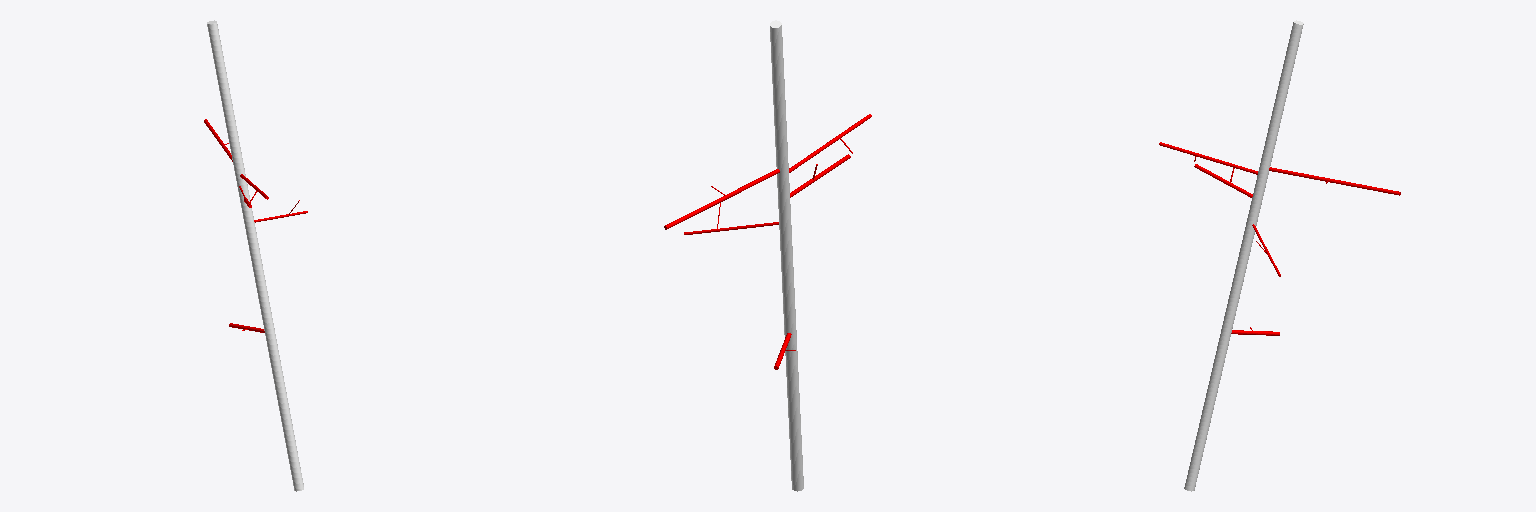
robot.urdf — tree_8.urdf:
<?xml version='1.0' encoding='UTF-8'?>
<robot name="tree_8.urdf">
  <link name="branch_0">
    <inertial>
      <origin xyz="0.0 0.0 0.0" rpy="0.0 -0.0 0.0"/>
      <mass value="0.1"/>
      <inertia ixx="0.001" ixy="0.0" ixz="0.0" iyy="0.001" iyz="0.0" izz="0.001"/>
    </inertial>
    <visual name="branch_0_visual">
      <geometry>
        <cylinder radius="0.12056273771362779" length="11.624842342593364"/>
      </geometry>
      <material name="branch_material"/>
      <origin xyz="-0.46709309058473814 1.2461915952310492 5.658009404838541" rpy="0.0 0.23101640541137178 1.9294060533268833"/>
    </visual>
    <collision name="branch_0_collision">
      <geometry>
        <cylinder radius="0.12056273771362779" length="11.624842342593364"/>
      </geometry>
      <origin xyz="-0.46709309058473814 1.2461915952310492 5.658009404838541" rpy="0.0 0.23101640541137178 1.9294060533268833"/>
    </collision>
  </link>
  <link name="branch_1">
    <inertial>
      <origin xyz="0.0 0.0 0.0" rpy="0.0 -0.0 0.0"/>
      <mass value="0.1"/>
      <inertia ixx="0.001" ixy="0.0" ixz="0.0" iyy="0.001" iyz="0.0" izz="0.001"/>
    </inertial>
    <visual name="branch_1_visual">
      <geometry>
        <cylinder radius="0.039919161255834286" length="2.4931160571359996"/>
      </geometry>
      <material name="semantic_material"/>
      <origin xyz="0.0 0.0 0.0" rpy="0.0 -0.0 0.0"/>
    </visual>
    <collision name="branch_1_collision">
      <geometry>
        <cylinder radius="0.039919161255834286" length="2.4931160571359996"/>
      </geometry>
      <origin xyz="0.0 0.0 0.0" rpy="0.0 -0.0 0.0"/>
    </collision>
  </link>
  <link name="branch_2">
    <inertial>
      <origin xyz="0.0 0.0 0.0" rpy="0.0 -0.0 0.0"/>
      <mass value="0.1"/>
      <inertia ixx="0.001" ixy="0.0" ixz="0.0" iyy="0.001" iyz="0.0" izz="0.001"/>
    </inertial>
    <visual name="branch_2_visual">
      <geometry>
        <cylinder radius="0.014958130878878189" length="0.42311878218817056"/>
      </geometry>
      <material name="semantic_material"/>
      <origin xyz="0.0 0.0 0.0" rpy="0.0 -0.0 0.0"/>
    </visual>
    <collision name="branch_2_collision">
      <geometry>
        <cylinder radius="0.014958130878878189" length="0.42311878218817056"/>
      </geometry>
      <origin xyz="0.0 0.0 0.0" rpy="0.0 -0.0 0.0"/>
    </collision>
  </link>
  <link name="branch_3">
    <inertial>
      <origin xyz="0.0 0.0 0.0" rpy="0.0 -0.0 0.0"/>
      <mass value="0.1"/>
      <inertia ixx="0.001" ixy="0.0" ixz="0.0" iyy="0.001" iyz="0.0" izz="0.001"/>
    </inertial>
    <visual name="branch_3_visual">
      <geometry>
        <cylinder radius="0.04418545291188568" length="3.2293783573334096"/>
      </geometry>
      <material name="semantic_material"/>
      <origin xyz="0.0 0.0 0.0" rpy="0.0 -0.0 0.0"/>
    </visual>
    <collision name="branch_3_collision">
      <geometry>
        <cylinder radius="0.04418545291188568" length="3.2293783573334096"/>
      </geometry>
      <origin xyz="0.0 0.0 0.0" rpy="0.0 -0.0 0.0"/>
    </collision>
  </link>
  <link name="branch_4">
    <inertial>
      <origin xyz="0.0 0.0 0.0" rpy="0.0 -0.0 0.0"/>
      <mass value="0.1"/>
      <inertia ixx="0.001" ixy="0.0" ixz="0.0" iyy="0.001" iyz="0.0" izz="0.001"/>
    </inertial>
    <visual name="branch_4_visual">
      <geometry>
        <cylinder radius="0.010443739247888783" length="0.4158386686884218"/>
      </geometry>
      <material name="semantic_material"/>
      <origin xyz="0.0 0.0 0.0" rpy="0.0 -0.0 0.0"/>
    </visual>
    <collision name="branch_4_collision">
      <geometry>
        <cylinder radius="0.010443739247888783" length="0.4158386686884218"/>
      </geometry>
      <origin xyz="0.0 0.0 0.0" rpy="0.0 -0.0 0.0"/>
    </collision>
  </link>
  <link name="branch_5">
    <inertial>
      <origin xyz="0.0 0.0 0.0" rpy="0.0 -0.0 0.0"/>
      <mass value="0.1"/>
      <inertia ixx="0.001" ixy="0.0" ixz="0.0" iyy="0.001" iyz="0.0" izz="0.001"/>
    </inertial>
    <visual name="branch_5_visual">
      <geometry>
        <cylinder radius="0.048168576007138975" length="1.2905007828047637"/>
      </geometry>
      <material name="semantic_material"/>
      <origin xyz="0.0 0.0 0.0" rpy="0.0 -0.0 0.0"/>
    </visual>
    <collision name="branch_5_collision">
      <geometry>
        <cylinder radius="0.048168576007138975" length="1.2905007828047637"/>
      </geometry>
      <origin xyz="0.0 0.0 0.0" rpy="0.0 -0.0 0.0"/>
    </collision>
  </link>
  <link name="branch_6">
    <inertial>
      <origin xyz="0.0 0.0 0.0" rpy="0.0 -0.0 0.0"/>
      <mass value="0.1"/>
      <inertia ixx="0.001" ixy="0.0" ixz="0.0" iyy="0.001" iyz="0.0" izz="0.001"/>
    </inertial>
    <visual name="branch_6_visual">
      <geometry>
        <cylinder radius="0.011110862541984876" length="0.26681874630543534"/>
      </geometry>
      <material name="semantic_material"/>
      <origin xyz="0.0 0.0 0.0" rpy="0.0 -0.0 0.0"/>
    </visual>
    <collision name="branch_6_collision">
      <geometry>
        <cylinder radius="0.011110862541984876" length="0.26681874630543534"/>
      </geometry>
      <origin xyz="0.0 0.0 0.0" rpy="0.0 -0.0 0.0"/>
    </collision>
  </link>
  <link name="branch_7">
    <inertial>
      <origin xyz="0.0 0.0 0.0" rpy="0.0 -0.0 0.0"/>
      <mass value="0.1"/>
      <inertia ixx="0.001" ixy="0.0" ixz="0.0" iyy="0.001" iyz="0.0" izz="0.001"/>
    </inertial>
    <visual name="branch_7_visual">
      <geometry>
        <cylinder radius="0.029768682001813835" length="2.0878680427759275"/>
      </geometry>
      <material name="semantic_material"/>
      <origin xyz="0.0 0.0 0.0" rpy="0.0 -0.0 0.0"/>
    </visual>
    <collision name="branch_7_collision">
      <geometry>
        <cylinder radius="0.029768682001813835" length="2.0878680427759275"/>
      </geometry>
      <origin xyz="0.0 0.0 0.0" rpy="0.0 -0.0 0.0"/>
    </collision>
  </link>
  <link name="branch_8">
    <inertial>
      <origin xyz="0.0 0.0 0.0" rpy="0.0 -0.0 0.0"/>
      <mass value="0.1"/>
      <inertia ixx="0.001" ixy="0.0" ixz="0.0" iyy="0.001" iyz="0.0" izz="0.001"/>
    </inertial>
    <visual name="branch_8_visual">
      <geometry>
        <cylinder radius="0.01" length="0.6014895694346926"/>
      </geometry>
      <material name="semantic_material"/>
      <origin xyz="0.0 0.0 0.0" rpy="0.0 -0.0 0.0"/>
    </visual>
    <collision name="branch_8_collision">
      <geometry>
        <cylinder radius="0.01" length="0.6014895694346926"/>
      </geometry>
      <origin xyz="0.0 0.0 0.0" rpy="0.0 -0.0 0.0"/>
    </collision>
  </link>
  <link name="branch_9">
    <inertial>
      <origin xyz="0.0 0.0 0.0" rpy="0.0 -0.0 0.0"/>
      <mass value="0.1"/>
      <inertia ixx="0.001" ixy="0.0" ixz="0.0" iyy="0.001" iyz="0.0" izz="0.001"/>
    </inertial>
    <visual name="branch_9_visual">
      <geometry>
        <cylinder radius="0.044514498418778886" length="1.6561891452862838"/>
      </geometry>
      <material name="semantic_material"/>
      <origin xyz="0.0 0.0 0.0" rpy="0.0 -0.0 0.0"/>
    </visual>
    <collision name="branch_9_collision">
      <geometry>
        <cylinder radius="0.044514498418778886" length="1.6561891452862838"/>
      </geometry>
      <origin xyz="0.0 0.0 0.0" rpy="0.0 -0.0 0.0"/>
    </collision>
  </link>
  <link name="branch_10">
    <inertial>
      <origin xyz="0.0 0.0 0.0" rpy="0.0 -0.0 0.0"/>
      <mass value="0.1"/>
      <inertia ixx="0.001" ixy="0.0" ixz="0.0" iyy="0.001" iyz="0.0" izz="0.001"/>
    </inertial>
    <visual name="branch_10_visual">
      <geometry>
        <cylinder radius="0.01764577208628101" length="0.4552593829498129"/>
      </geometry>
      <material name="semantic_material"/>
      <origin xyz="0.0 0.0 0.0" rpy="0.0 -0.0 0.0"/>
    </visual>
    <collision name="branch_10_collision">
      <geometry>
        <cylinder radius="0.01764577208628101" length="0.4552593829498129"/>
      </geometry>
      <origin xyz="0.0 0.0 0.0" rpy="0.0 -0.0 0.0"/>
    </collision>
  </link>
  <joint name="joint_0_1" type="fixed">
    <parent link="branch_0"/>
    <child link="branch_1"/>
    <axis xyz="1. 0. 0."/>
    <origin xyz="-0.9440632487693926 0.49913656262240047 7.873877562401891" rpy="0.5836324733073561 1.332265216443693 -1.234014433850589"/>
  </joint>
  <joint name="joint_0_3" type="fixed">
    <parent link="branch_0"/>
    <child link="branch_3"/>
    <axis xyz="1. 0. 0."/>
    <origin xyz="-0.20461596779678679 3.2650246496465436 7.669627465558887" rpy="-2.0691079124842373 1.4151341556481012 -0.7689723939112313"/>
  </joint>
  <joint name="joint_0_5" type="fixed">
    <parent link="branch_0"/>
    <child link="branch_5"/>
    <axis xyz="1. 0. 0."/>
    <origin xyz="-0.5026046963135664 1.4478480122855053 3.705128567400366" rpy="-3.064314778630799 1.3971656288062133 -1.192803664367044"/>
  </joint>
  <joint name="joint_0_7" type="fixed">
    <parent link="branch_0"/>
    <child link="branch_7"/>
    <axis xyz="1. 0. 0."/>
    <origin xyz="0.4347235302204426 1.7451166271225116 6.251662999770177" rpy="-2.3159964008479297 1.2540012351281145 -1.972042056068016"/>
  </joint>
  <joint name="joint_0_9" type="fixed">
    <parent link="branch_0"/>
    <child link="branch_9"/>
    <axis xyz="1. 0. 0."/>
    <origin xyz="-0.9169661870300423 0.8416231825977676 7.30366414727387" rpy="0.4555767608520532 1.2038657426033708 -1.5304364606464103"/>
  </joint>
  <joint name="joint_1_2" type="fixed">
    <parent link="branch_0"/>
    <child link="branch_2"/>
    <axis xyz="1. 0. 0."/>
    <origin xyz="-1.1749419636368343 0.1390850777093967 7.788068902859272" rpy="-2.451000754522608 0.295112896715132 1.391307190837572"/>
  </joint>
  <joint name="joint_3_4" type="fixed">
    <parent link="branch_0"/>
    <child link="branch_4"/>
    <axis xyz="1. 0. 0."/>
    <origin xyz="-0.02849904169098131 3.1522110146759887 7.728724728190187" rpy="-1.3106295108522998 -0.09161716258527391 -1.781492678334427"/>
  </joint>
  <joint name="joint_5_6" type="fixed">
    <parent link="branch_0"/>
    <child link="branch_6"/>
    <axis xyz="1. 0. 0."/>
    <origin xyz="-0.6343027783776212 1.4244093731428662 3.7153806816775896" rpy="1.477407467218521 -0.17514116966441762 -1.2928686950344552"/>
  </joint>
  <joint name="joint_7_8" type="fixed">
    <parent link="branch_0"/>
    <child link="branch_8"/>
    <axis xyz="1. 0. 0."/>
    <origin xyz="0.8229600604981685 1.6890459341160555 6.42054324536977" rpy="-0.6166440601073625 -0.0735145518528409 -2.92417718818534"/>
  </joint>
  <joint name="joint_9_10" type="fixed">
    <parent link="branch_0"/>
    <child link="branch_10"/>
    <axis xyz="1. 0. 0."/>
    <origin xyz="-0.9530749620436009 0.9790269818339646 7.479532279415344" rpy="-0.40493161540328426 0.1117469378340677 1.2253296609387985"/>
  </joint>
  <material name="branch_material">
    <color rgba="1. 1. 1. 1."/>
  </material>
  <material name="semantic_material">
    <color rgba="1. 0. 0. 1."/>
  </material>
</robot>

--- What the picture shows (computed from the rendered views, not written in the file) ---
The picture shows the robot from 3 angles, left to right: view 1: azimuth 30°, elevation 25°; view 2: azimuth 150°, elevation 25°; view 3: azimuth 270°, elevation 25°; orthographic projection.
Model tree_8.urdf with 11 links and 10 joints (10 fixed), rooted at branch_0, posed all joints at 0.
Visible links, largest first — view 1: branch_0; view 2: branch_0, branch_3; view 3: branch_0.
Link boxes in pixels (x1=…): branch_0: x1=207, y1=20, x2=303, y2=491; branch_0: x1=770, y1=20, x2=803, y2=491; branch_3: x1=664, y1=169, x2=779, y2=229; branch_0: x1=1184, y1=20, x2=1303, y2=491.
Bounding box of the posed robot: 2.74 × 5.52 × 11.37 m (x, y, z).
Geometry: primitives only (box / cylinder / sphere), no mesh files.
